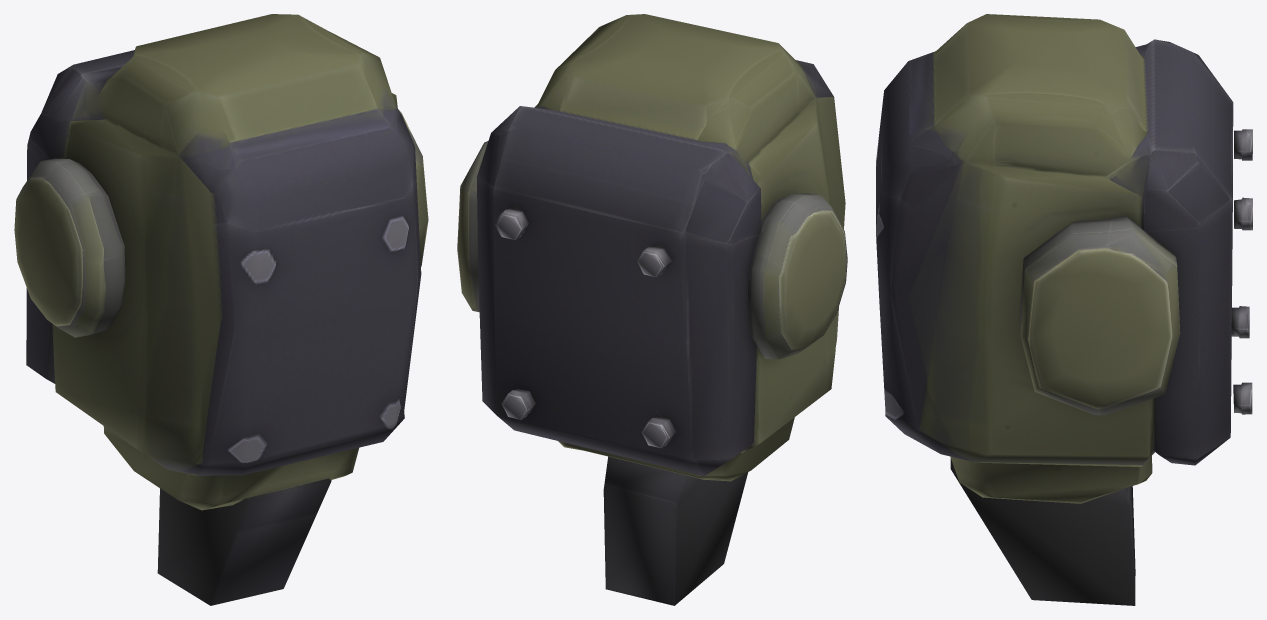
File: Mech_Arm.glb
3 renders of one model, left to right at view 1: azimuth 30°, elevation 25°; view 2: azimuth 150°, elevation 25°; view 3: azimuth 270°, elevation 25°, orthographic. The views are drawn at different scales.
Bounding box in the file's own units: 0.6499 × 0.9526 × 0.6006.
1 material, 1 textured.
